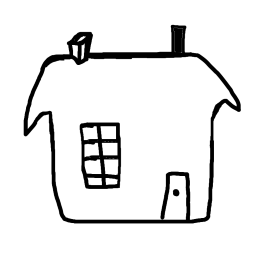chimney: (61, 23, 100, 67), (164, 16, 193, 59)
closed_window: (77, 114, 130, 194)
door: (152, 170, 193, 227)
single_line_roof: (7, 44, 257, 130)
wall: (43, 103, 227, 228)
